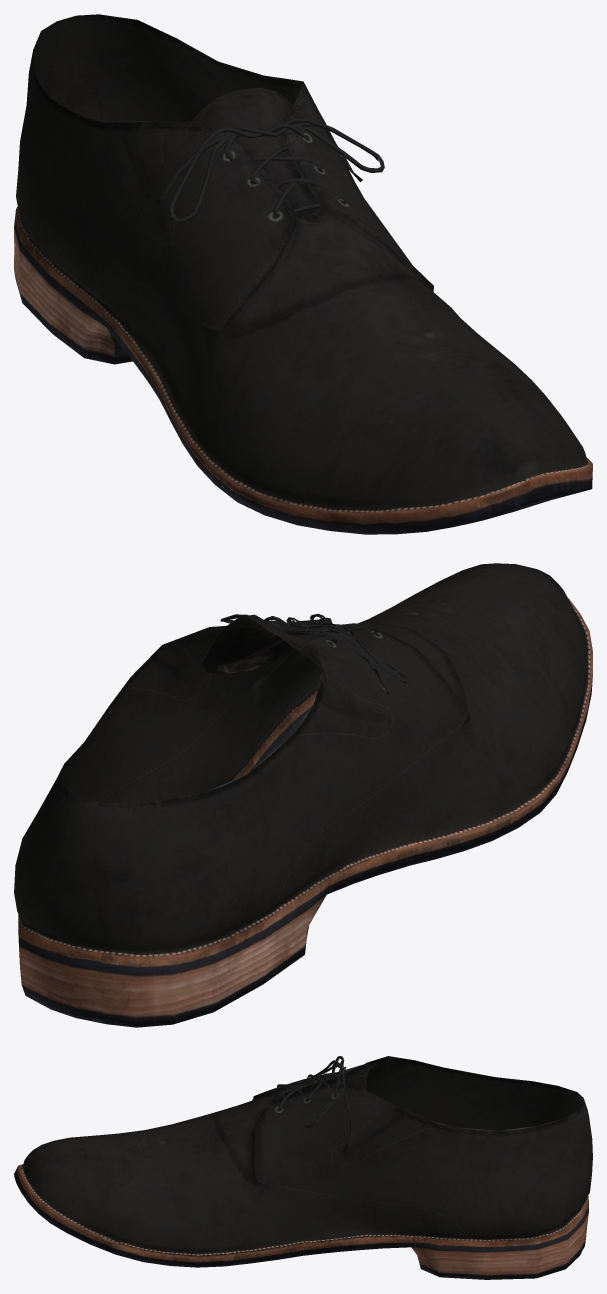
File: Shoes5_R.fbx
3 views of the same model, one above another, from view 1: azimuth 30°, elevation 25°; view 2: azimuth 150°, elevation 25°; view 3: azimuth 270°, elevation 25° (orthographic). The views are drawn at different scales.
Visible parts, largest first — view 1: avaturn_shoes_0.001; view 2: avaturn_shoes_0.001; view 3: avaturn_shoes_0.001.
Part boxes in pixels (box(x1,y1,x2,y2)): avaturn_shoes_0.001: box(14, 14, 592, 534); avaturn_shoes_0.001: box(14, 563, 592, 1027); avaturn_shoes_0.001: box(14, 1056, 592, 1279).
Size of the model in its own units: 10.25 by 10.1 by 29.44.
1 material, 1 textured.
